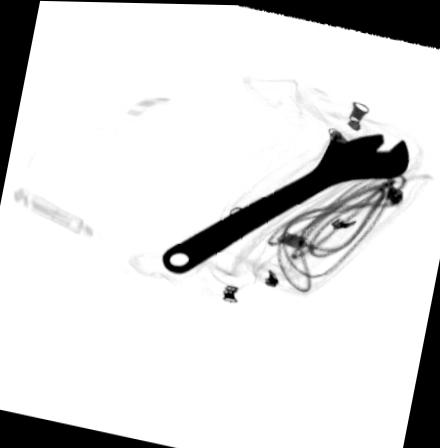Wrench: (160, 130, 410, 274)
